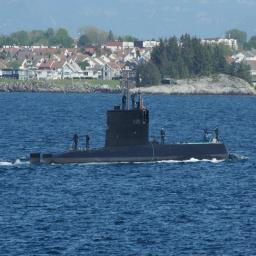submarine: (31, 79, 231, 165)
